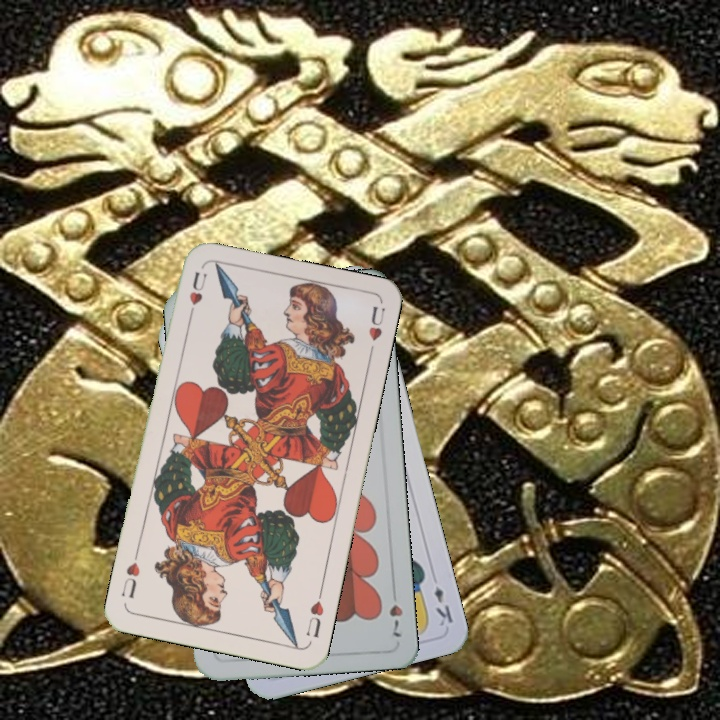EK: (430, 582, 456, 629)
H7: (385, 600, 405, 640)
HU: (184, 267, 209, 323), (302, 586, 327, 640)
